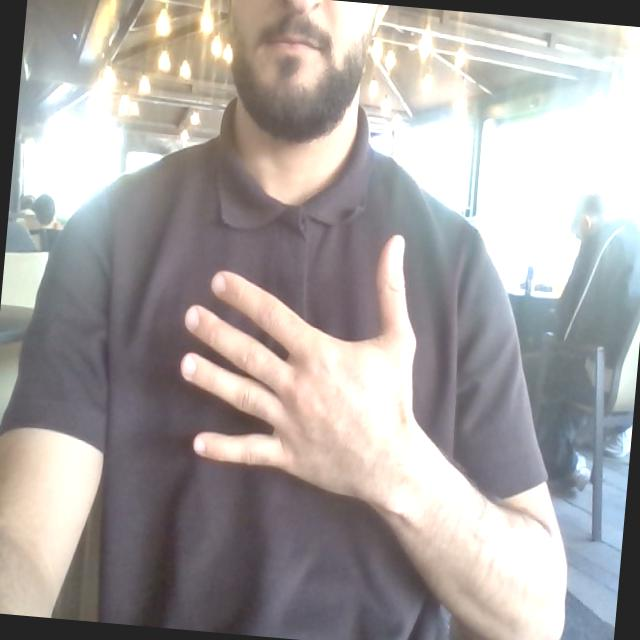Hand: (182, 237, 425, 501)
